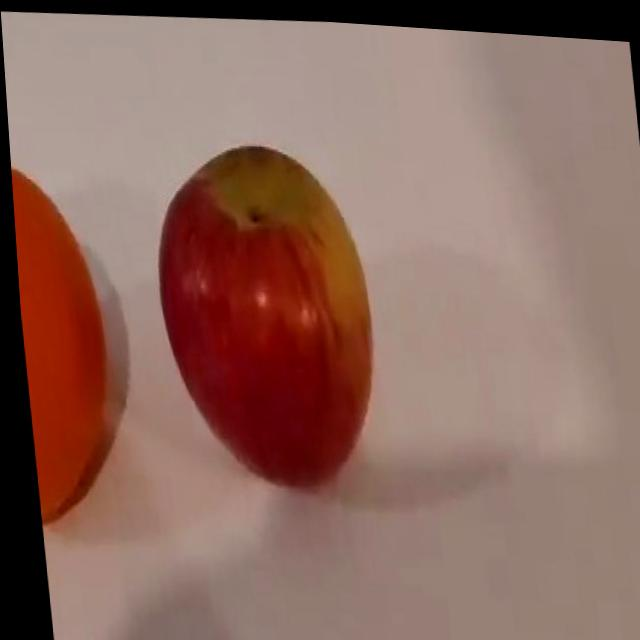Apple: (138, 128, 386, 497)
Orange: (8, 157, 116, 528)
